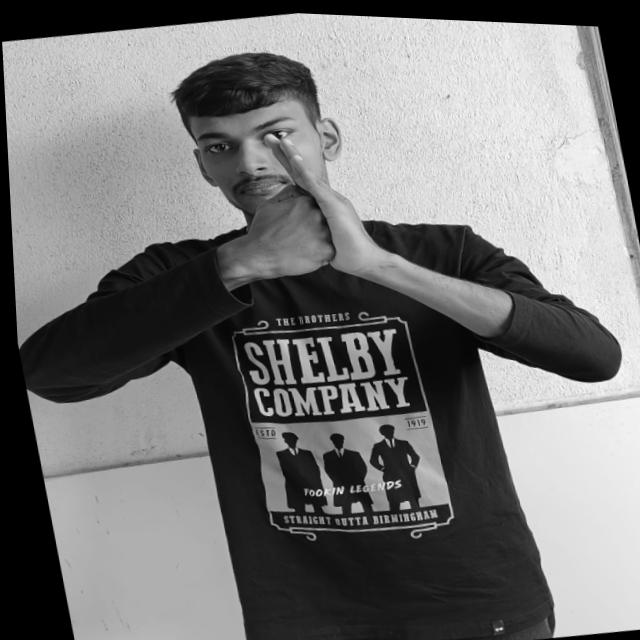Well Done: (232, 120, 373, 297)
